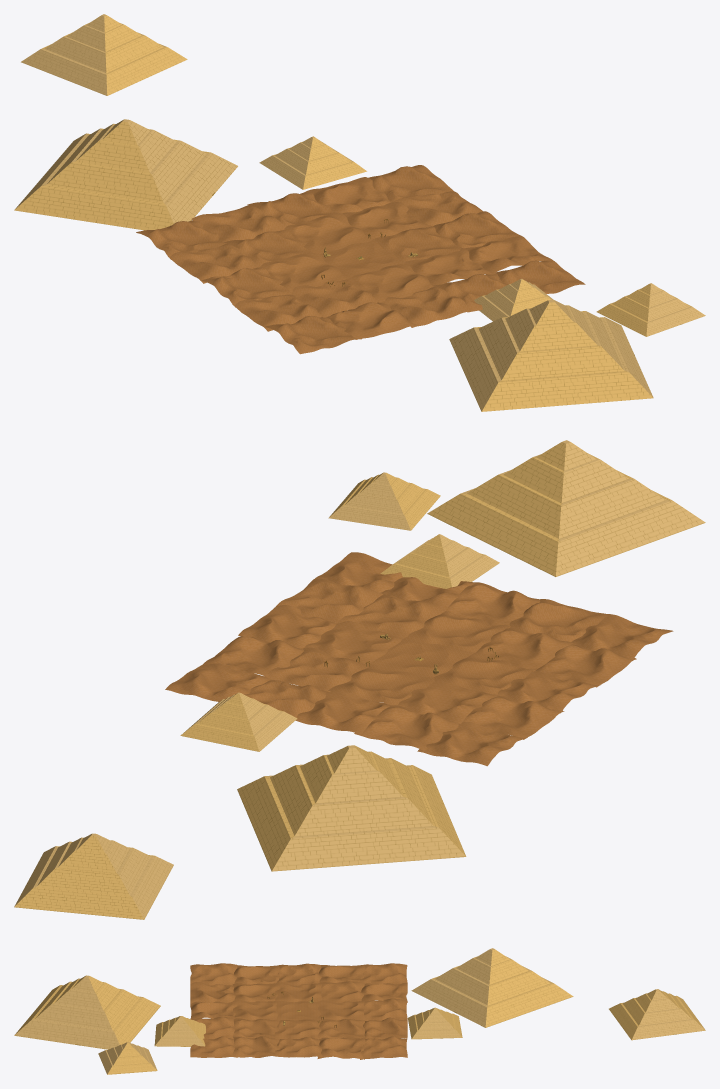
Rendered from desertruins.fbx.
3 views of the same model, one above another, from view 1: azimuth 30°, elevation 25°; view 2: azimuth 150°, elevation 25°; view 3: azimuth 270°, elevation 25° (orthographic). The views are drawn at different scales.
Visible parts, largest first — view 1: pit2; view 2: pit2; view 3: pit2.
Part boxes in pixels (x1,y1,x2,y2): pit2: (14, 14, 705, 411); pit2: (14, 440, 705, 919); pit2: (14, 948, 705, 1074).
Size of the model in its own units: 7053950 by 1430813 by 1.63e+07.
Materials: 22 (22 with a texture image).
